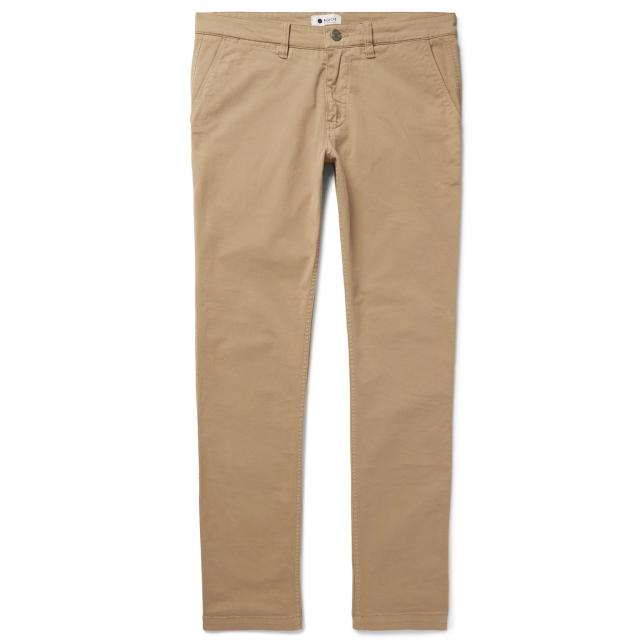long-pants: (190, 12, 464, 636)
